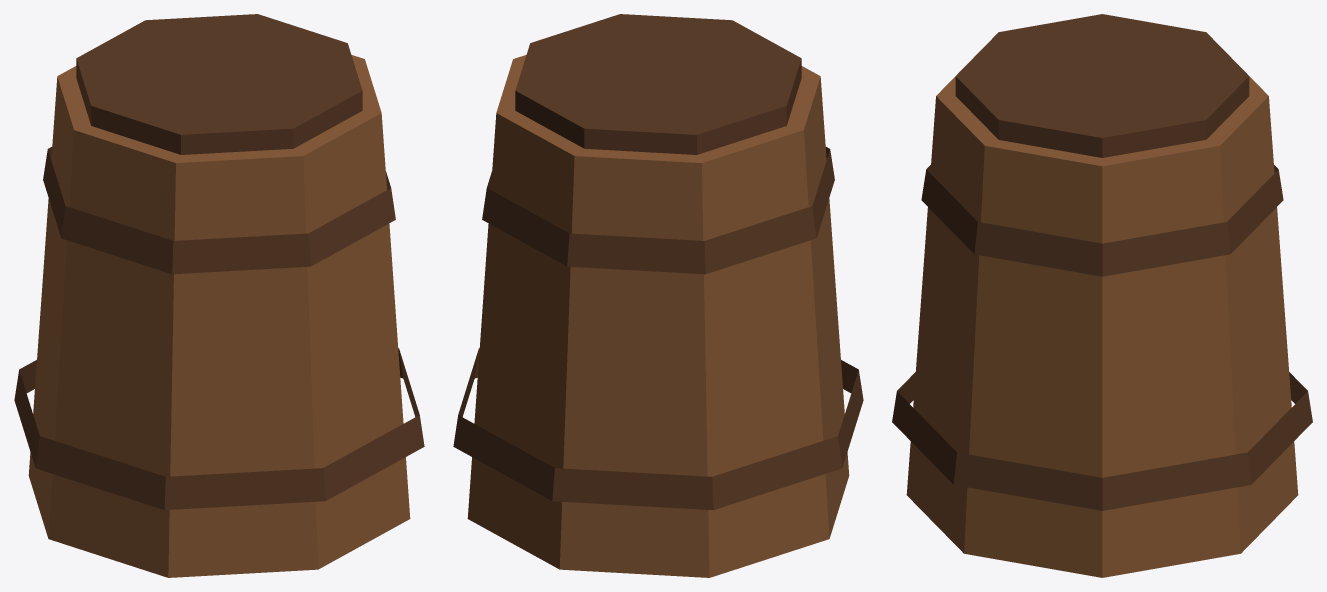
Rendered from prop_barrel.glb.
3 views of the same model, side by side, from view 1: azimuth 30°, elevation 25°; view 2: azimuth 150°, elevation 25°; view 3: azimuth 270°, elevation 25° (orthographic).
Parts seen in each view (by area): view 1: prop_barrel; view 2: prop_barrel; view 3: prop_barrel.
Part boxes in pixels (left/top/right/bottom): prop_barrel: left=14, top=14, right=424, bottom=577; prop_barrel: left=453, top=14, right=863, bottom=577; prop_barrel: left=892, top=14, right=1312, bottom=577.
Bounding box in the file's own units: 0.86 × 0.945 × 0.86.
1 material, 1 textured.
